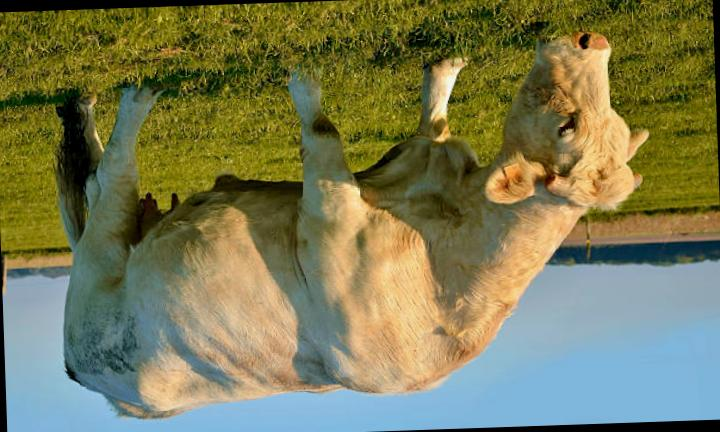Charolais: (57, 34, 647, 419)
